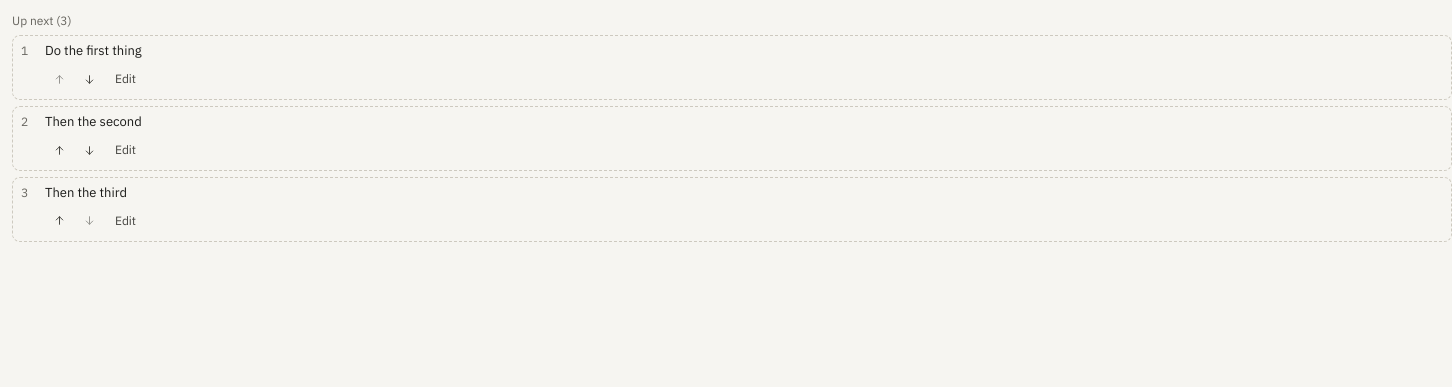
Test: queued messages › tells the owner when the queue could not be held
The image size is (1452, 387).
Click the button with aria-label "Edit message 1" at (126, 79), box [105,65,146,93]
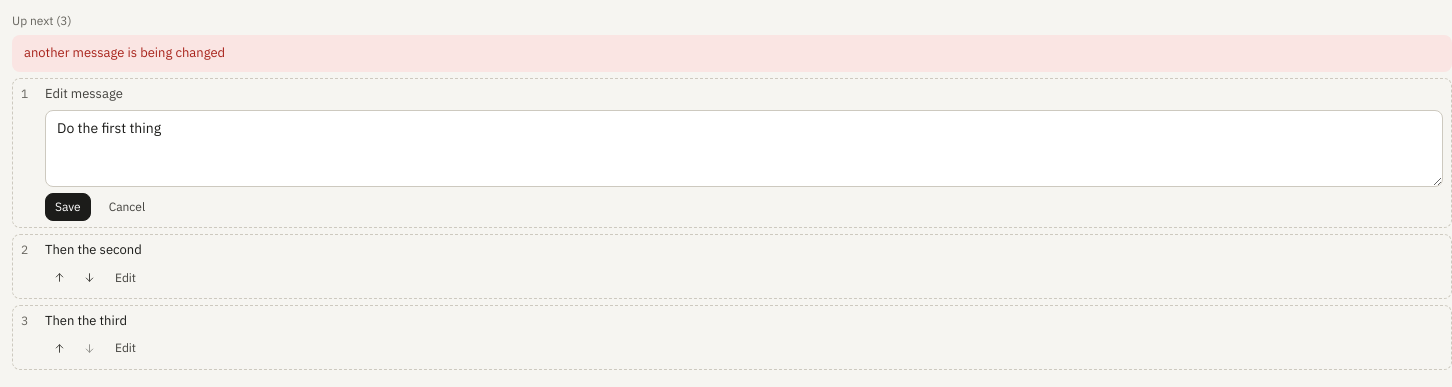
Now the message reads "another message is being changed", box [24,44,225,61]
